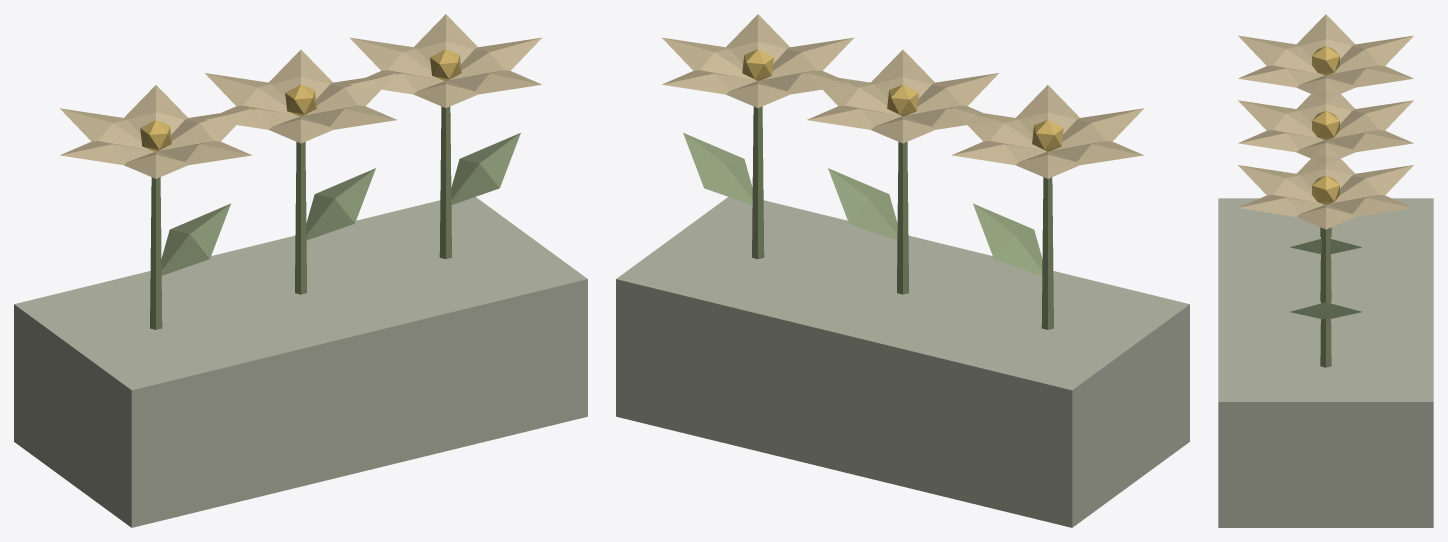
Rendered from map-exclusive-v3__champion_08.glb.
The picture shows the model from 3 angles, left to right: view 1: azimuth 30°, elevation 25°; view 2: azimuth 150°, elevation 25°; view 3: azimuth 270°, elevation 25°; orthographic projection. The views are drawn at different scales.
Visible parts, largest first — view 1: champion_08; view 2: champion_08; view 3: champion_08.
Part boxes in pixels (x1=…): champion_08: x1=14, y1=14, x2=587, y2=527; champion_08: x1=616, y1=14, x2=1189, y2=527; champion_08: x1=1218, y1=14, x2=1433, y2=527.
Size of the model in its own units: 1.8 by 1.23 by 0.76.
